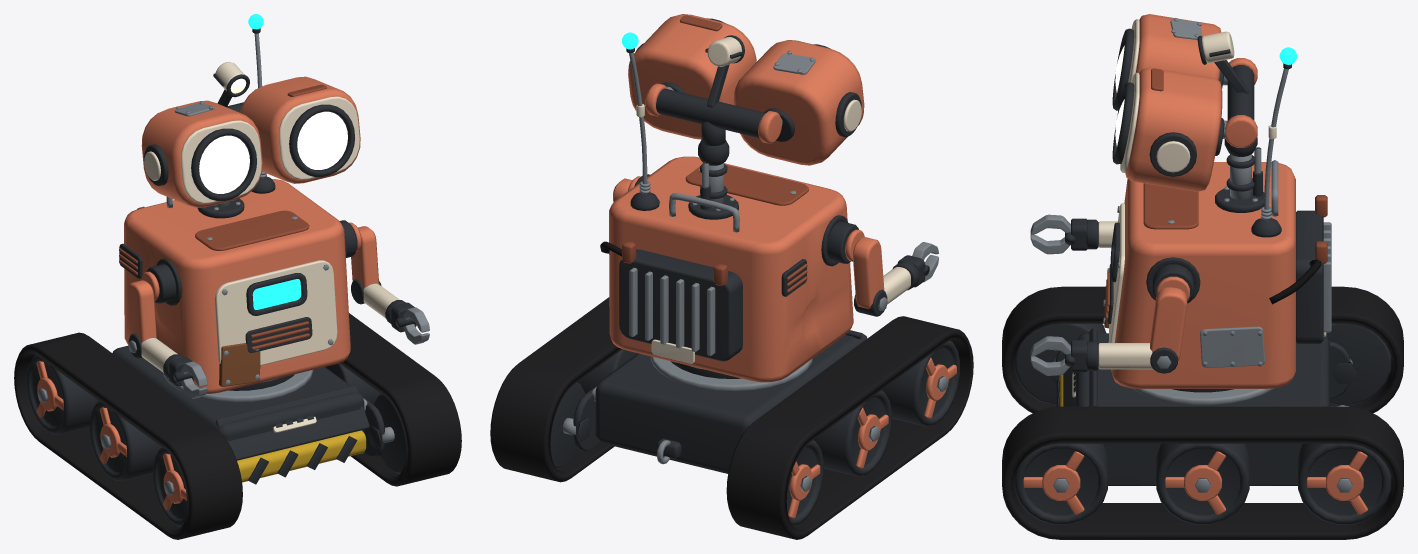
File: robot.glb
3 views of the same model, side by side, from view 1: azimuth 30°, elevation 25°; view 2: azimuth 150°, elevation 25°; view 3: azimuth 270°, elevation 25° (orthographic). The views are drawn at different scales.
Visible parts, largest first — view 1: Body, TrackR, Chassis, EyeR, TrackL, EyeL, WheelR3, WheelR2, ArmR, ArmL, WheelR1, WheelL1 (+6 smaller); view 2: Body, TrackR, Chassis, EyeR, TrackL, EyeL, Head, WheelR2, WheelR1, ArmR, WheelR3, Antenna (+4 smaller); view 3: Body, TrackL, Chassis, EyeL, TrackR, WheelL2, WheelL1, WheelL3, EyeR, ArmL, Head, WheelR3 (+5 smaller).
Part boxes in pixels (left/top/right/bottom): Body: left=119, top=179, right=350, bottom=393; TrackR: left=14, top=332, right=242, bottom=539; Chassis: left=112, top=345, right=394, bottom=484; EyeR: left=141, top=100, right=262, bottom=207; TrackL: left=339, top=313, right=461, bottom=486; EyeL: left=240, top=76, right=360, bottom=183; WheelR3: left=26, top=355, right=98, bottom=434; WheelR2: left=90, top=401, right=162, bottom=481; ArmR: left=127, top=264, right=177, bottom=372; ArmL: left=339, top=220, right=399, bottom=318; WheelR1: left=153, top=447, right=187, bottom=526; WheelL1: left=373, top=394, right=406, bottom=473; Body: left=600, top=156, right=853, bottom=382; TrackR: left=726, top=316, right=973, bottom=539; Chassis: left=563, top=330, right=867, bottom=473; EyeR: left=734, top=40, right=864, bottom=165; TrackL: left=490, top=297, right=621, bottom=482; EyeL: left=628, top=14, right=756, bottom=139; Head: left=645, top=35, right=782, bottom=165; WheelR2: left=814, top=390, right=891, bottom=476; WheelR1: left=882, top=340, right=959, bottom=426; ArmR: left=827, top=221, right=910, bottom=316; WheelR3: left=786, top=440, right=823, bottom=525; Antenna: left=622, top=32, right=659, bottom=210; Body: left=1103, top=160, right=1331, bottom=392; TrackL: left=1002, top=406, right=1403, bottom=539; Chassis: left=1050, top=328, right=1357, bottom=485; EyeL: left=1112, top=67, right=1224, bottom=191; TrackR: left=1002, top=286, right=1403, bottom=413; WheelL2: left=1156, top=443, right=1249, bottom=524; WheelL1: left=1014, top=443, right=1107, bottom=524; WheelL3: left=1298, top=443, right=1391, bottom=524; EyeR: left=1112, top=14, right=1223, bottom=110; ArmL: left=1098, top=264, right=1193, bottom=373; Head: left=1197, top=31, right=1257, bottom=156; WheelR3: left=1326, top=323, right=1391, bottom=405.
Size of the model in its own units: 0.83 by 1.17 by 0.95.
